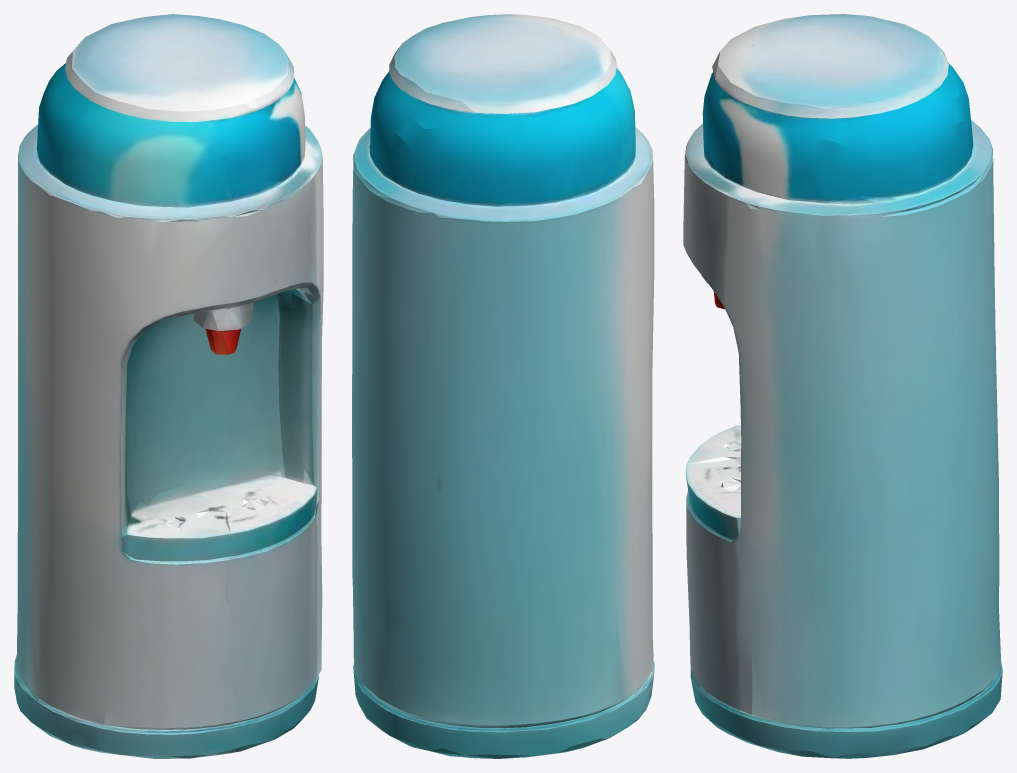
Rendered from waterCooler.glb.
The picture shows the model from 3 angles, left to right: view 1: azimuth 30°, elevation 25°; view 2: azimuth 150°, elevation 25°; view 3: azimuth 270°, elevation 25°; orthographic projection.
Visible parts, largest first — view 1: model; view 2: model; view 3: model.
Part boxes in pixels (x1,y1,x2,y2): model: (14, 14, 323, 758); model: (352, 14, 654, 758); model: (683, 14, 1002, 758).
Size of the model in its own units: 0.8157 by 1.9 by 0.8479.
Materials: 1 (1 with a texture image).
